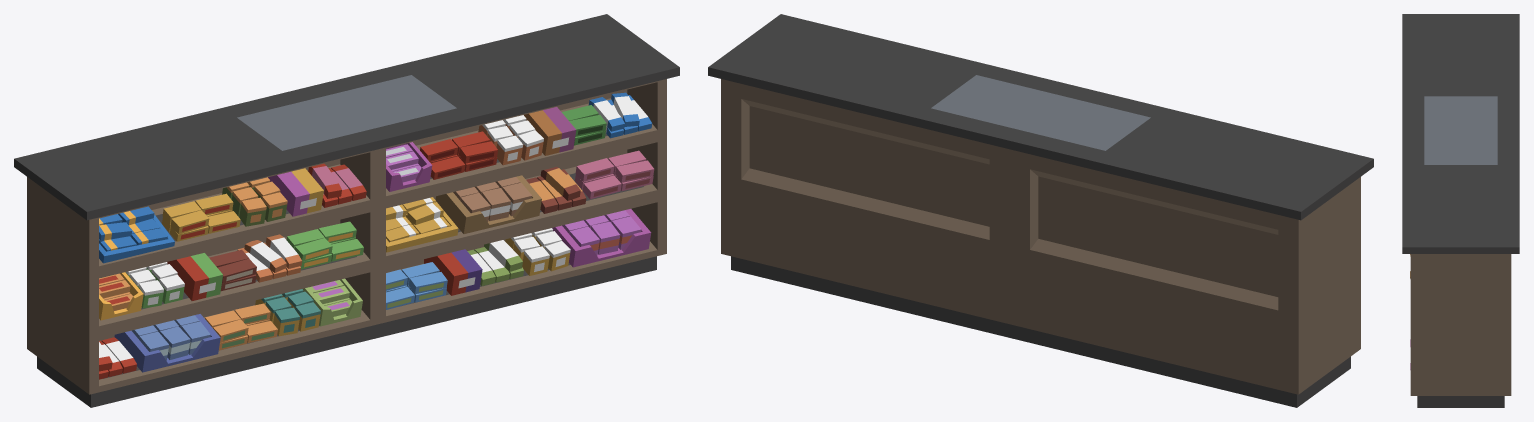
Rendered from SM_Prop_ShopCounter_01.fbx.
3 renders of one model, left to right at view 1: azimuth 30°, elevation 25°; view 2: azimuth 150°, elevation 25°; view 3: azimuth 270°, elevation 25°, orthographic. The views are drawn at different scales.
Visible parts, largest first — view 1: SM_Prop_ShopCounter_01; view 2: SM_Prop_ShopCounter_01; view 3: SM_Prop_ShopCounter_01.
Boxes of the visible parts, bbox=[...] form: SM_Prop_ShopCounter_01: bbox=[14, 14, 679, 407]; SM_Prop_ShopCounter_01: bbox=[708, 14, 1373, 407]; SM_Prop_ShopCounter_01: bbox=[1402, 14, 1519, 407].
Size of the model in its own units: 291 by 96.57 by 61.73.
